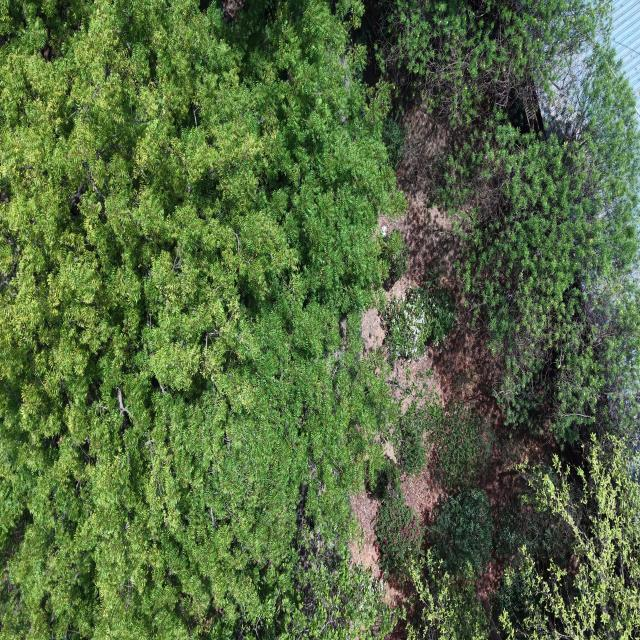DRY_AREA: (379, 107, 542, 515), (379, 107, 501, 420), (379, 107, 500, 419), (390, 328, 501, 428), (390, 324, 498, 419), (379, 192, 459, 293), (432, 327, 503, 426), (397, 105, 461, 196), (478, 436, 548, 518), (478, 437, 546, 516), (388, 349, 445, 411), (350, 492, 382, 579), (401, 464, 445, 524), (351, 492, 381, 578), (361, 308, 384, 352), (222, 0, 244, 23)
ROOFTOP_BUILDING: (603, 0, 639, 116), (611, 0, 639, 115)
VEGETATION_TREE: (0, 0, 639, 639), (0, 0, 401, 638), (378, 0, 639, 638), (379, 0, 639, 442), (447, 110, 639, 441), (409, 437, 639, 639), (377, 0, 609, 133), (499, 438, 639, 639), (260, 528, 391, 639), (393, 398, 494, 491), (407, 550, 490, 639), (427, 403, 493, 490), (383, 283, 456, 359), (429, 489, 493, 575), (376, 484, 424, 581), (394, 403, 435, 475), (381, 230, 408, 282), (383, 114, 406, 167)
